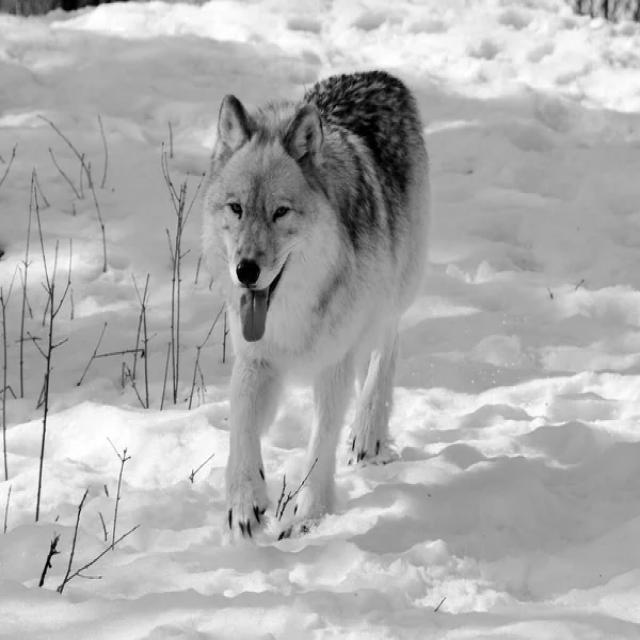Animal: (204, 66, 431, 547)
